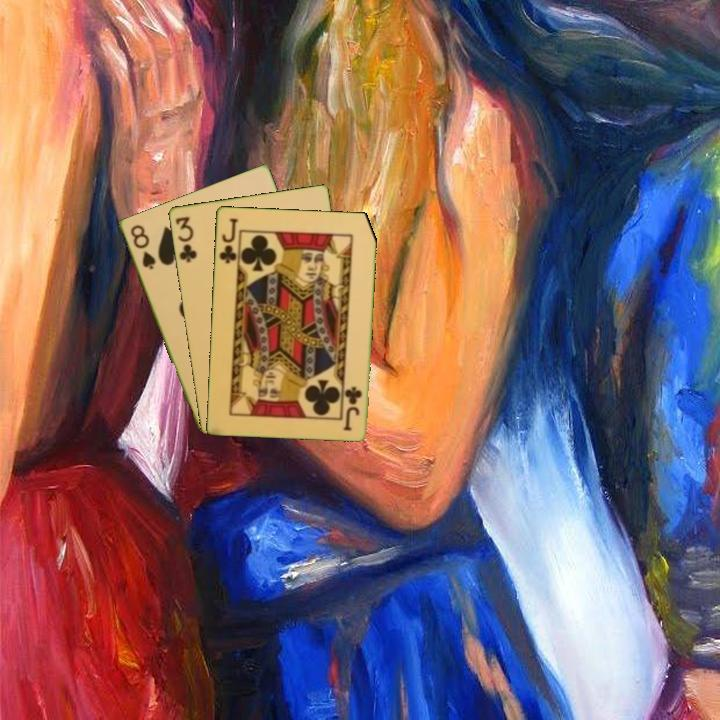3c: (172, 213, 199, 265)
8s: (126, 221, 158, 272)
Jc: (215, 214, 241, 266), (341, 383, 364, 434)
